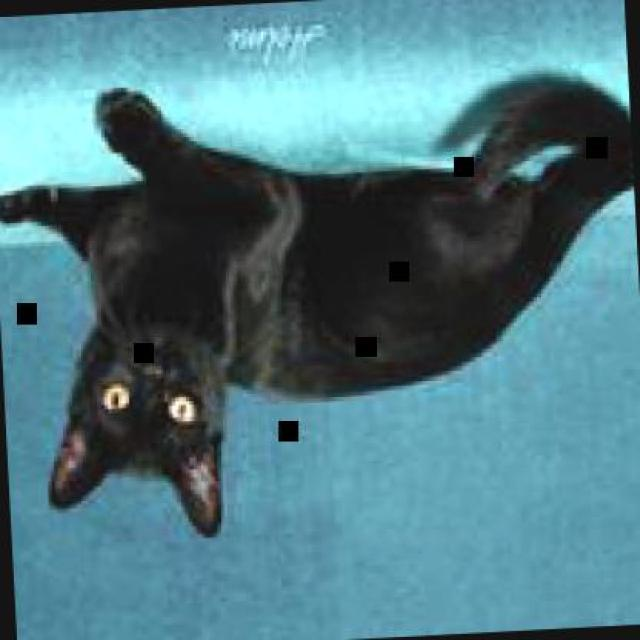cat: (0, 59, 638, 552)
